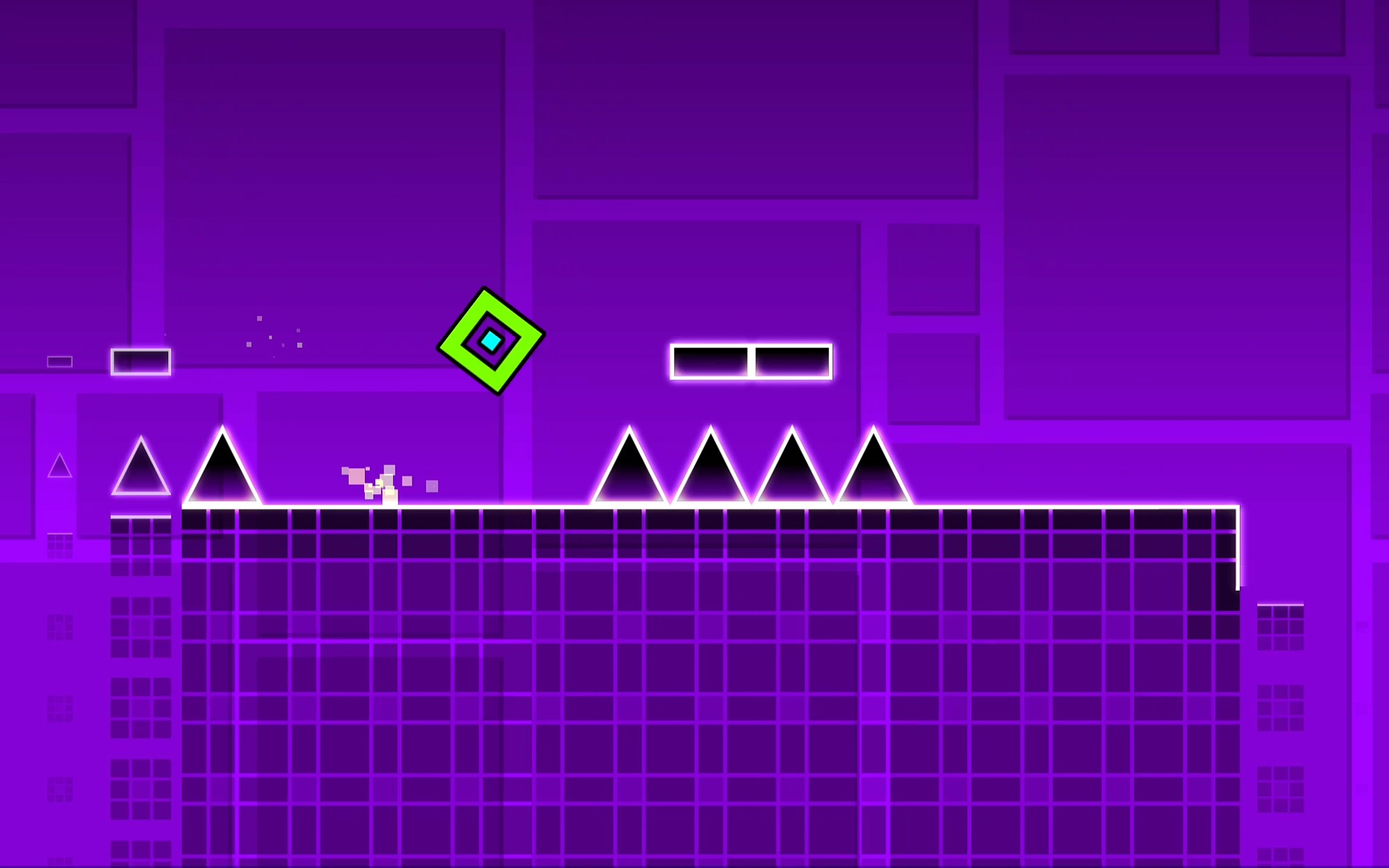Block2: (106, 507, 1236, 868), (1241, 601, 1317, 868)
Block3: (666, 344, 832, 381), (110, 347, 172, 375)
Player: (437, 286, 545, 393)
Spike: (183, 426, 260, 505), (836, 427, 910, 503), (755, 426, 828, 501), (592, 426, 664, 502), (676, 426, 747, 502), (111, 436, 171, 494)
